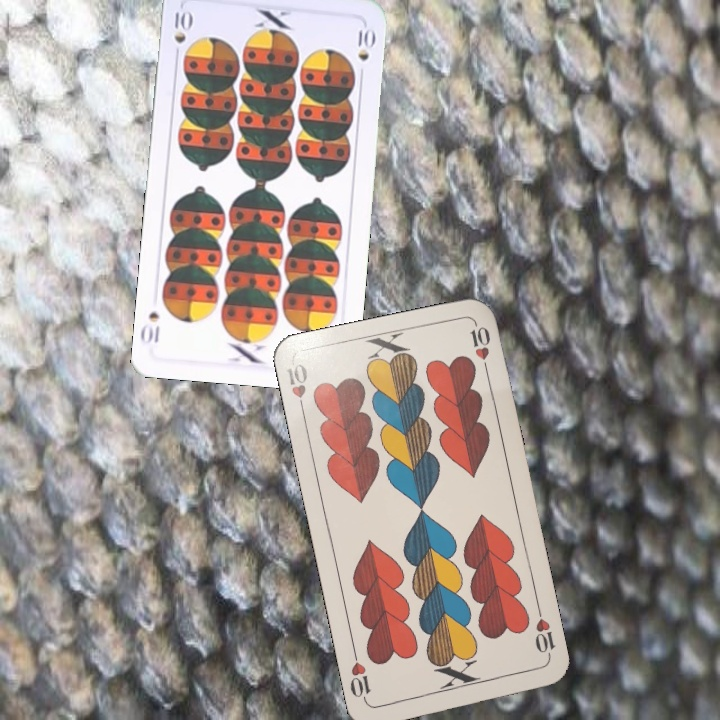H10: (282, 359, 310, 418), (531, 604, 558, 663)
S10: (170, 6, 194, 62)
